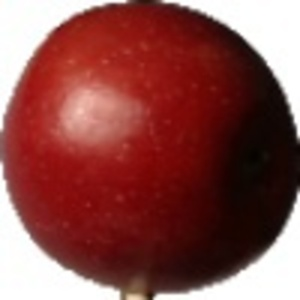maçã braeburn: (1, 2, 300, 293)
